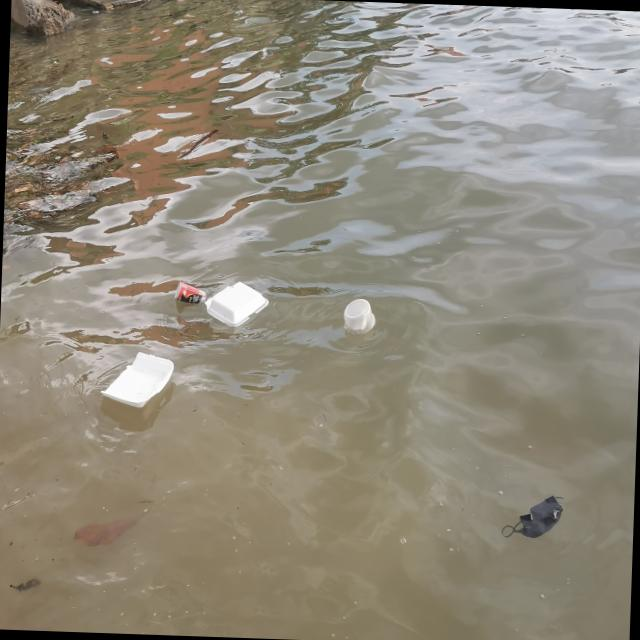can: (172, 281, 209, 304)
foam: (98, 348, 175, 417), (203, 278, 271, 328)
plastic bottle: (341, 298, 378, 337)
unknow: (500, 490, 568, 544)
